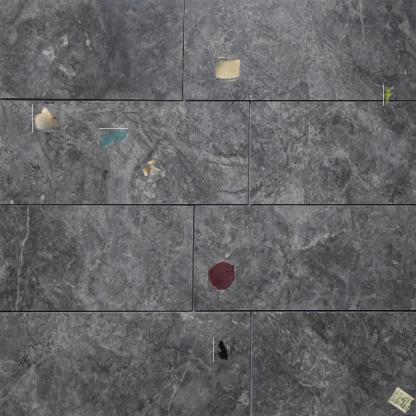dirty: (385, 385, 415, 415), (32, 105, 60, 132), (214, 56, 239, 82), (213, 338, 230, 362), (143, 160, 163, 180), (383, 84, 394, 106)
liquid: (208, 260, 236, 292), (98, 128, 128, 149)
